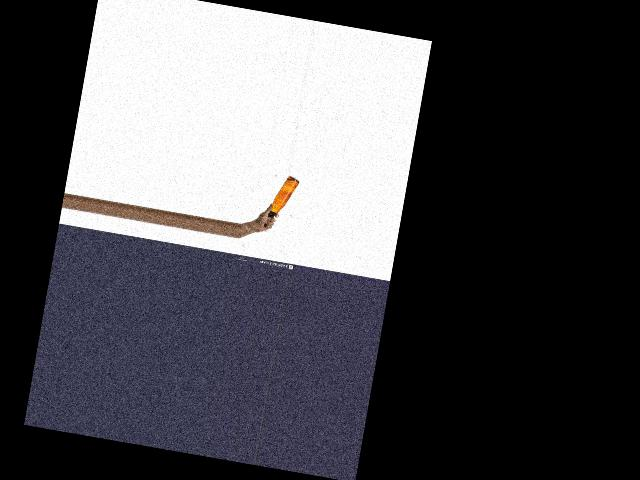beer: (264, 172, 299, 230)
